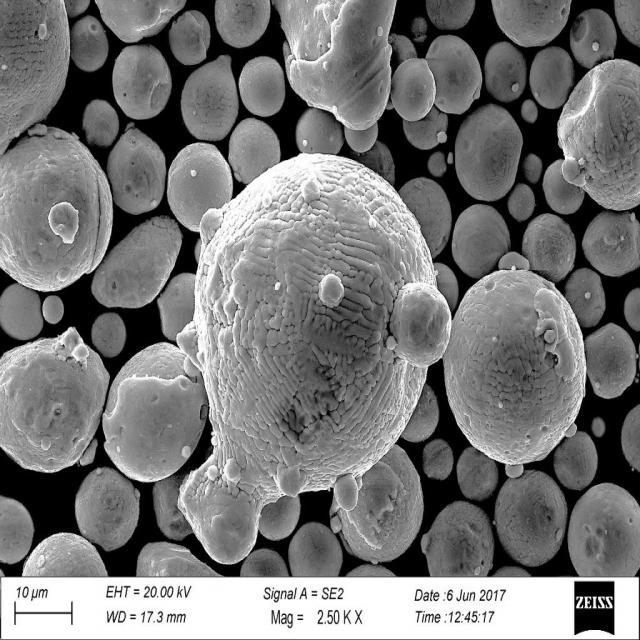cells: (190, 145, 442, 500), (444, 267, 590, 460), (0, 119, 112, 288), (275, 0, 406, 132), (0, 326, 108, 476), (102, 335, 208, 487), (556, 58, 640, 217), (328, 442, 423, 566), (91, 212, 185, 312), (492, 467, 570, 568), (452, 100, 528, 203), (567, 476, 640, 576), (422, 496, 498, 576), (75, 462, 143, 548), (391, 280, 451, 372), (111, 38, 174, 125), (106, 128, 168, 215), (182, 53, 242, 140), (447, 202, 515, 275), (425, 35, 485, 115), (579, 322, 640, 400), (228, 118, 284, 197), (399, 175, 451, 260), (525, 205, 580, 285), (489, 1, 575, 52), (25, 530, 110, 577), (582, 216, 640, 282), (558, 265, 610, 332), (526, 48, 576, 114), (565, 6, 620, 66), (292, 106, 348, 162), (481, 42, 530, 106), (552, 427, 598, 495), (213, 0, 275, 50), (240, 57, 290, 115), (286, 522, 344, 572), (256, 490, 306, 547), (1, 492, 38, 566), (2, 280, 42, 348), (390, 60, 436, 118), (401, 382, 441, 448), (171, 10, 215, 65), (69, 17, 110, 75), (456, 447, 496, 503), (422, 0, 482, 37), (81, 100, 119, 153), (88, 310, 128, 357), (617, 400, 640, 476), (50, 203, 85, 245), (422, 435, 452, 482), (335, 472, 360, 516), (515, 154, 546, 188), (509, 185, 535, 222), (44, 293, 68, 330), (622, 285, 640, 332), (321, 275, 344, 307), (520, 97, 541, 123), (408, 15, 428, 37), (304, 180, 320, 200), (592, 416, 606, 436)
